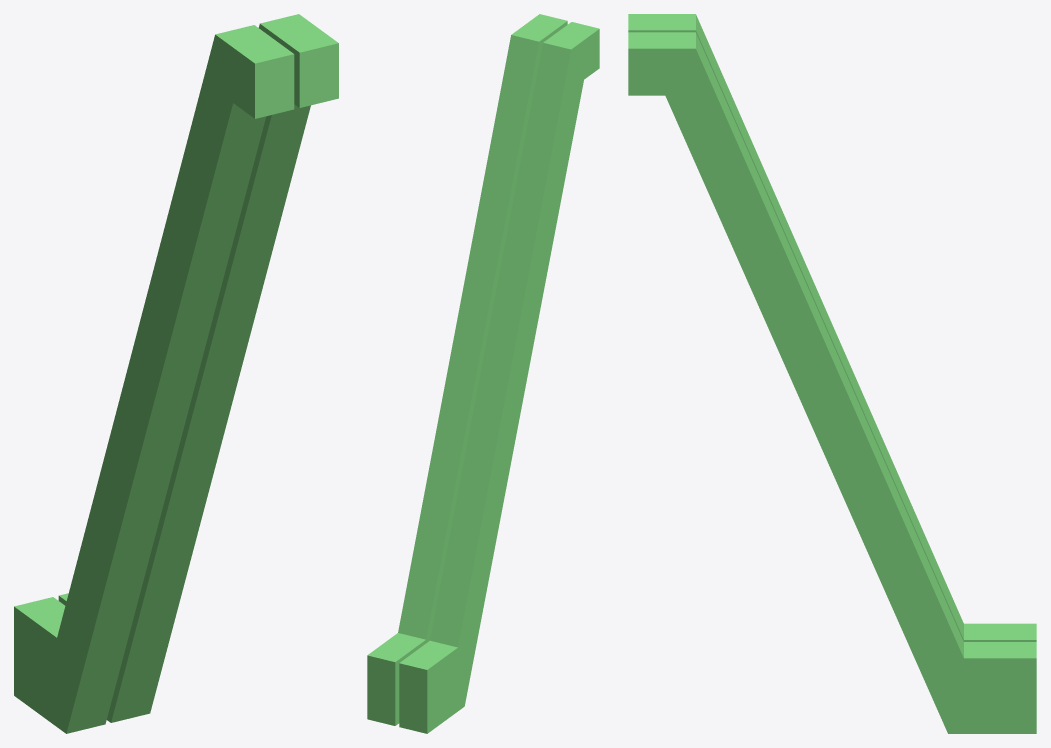
3 renders of one model, left to right at view 1: azimuth 30°, elevation 25°; view 2: azimuth 150°, elevation 25°; view 3: azimuth 270°, elevation 25°, orthographic. The views are drawn at different scales.
Visible parts, largest first — view 1: エスカレーター.045, エスカレーター.044; view 2: エスカレーター.045, エスカレーター.044; view 3: エスカレーター.044, エスカレーター.045.
Part boxes in pixels (x1,y1,x2,y2): エスカレーター.045: [14, 25, 294, 733]; エスカレーター.044: [58, 14, 338, 722]; エスカレーター.045: [399, 22, 599, 733]; エスカレーター.044: [367, 14, 567, 725]; エスカレーター.044: [628, 32, 1036, 733]; エスカレーター.045: [628, 14, 1036, 641].
Bounding box in the file's own units: 362 × 3328 × 1798.
